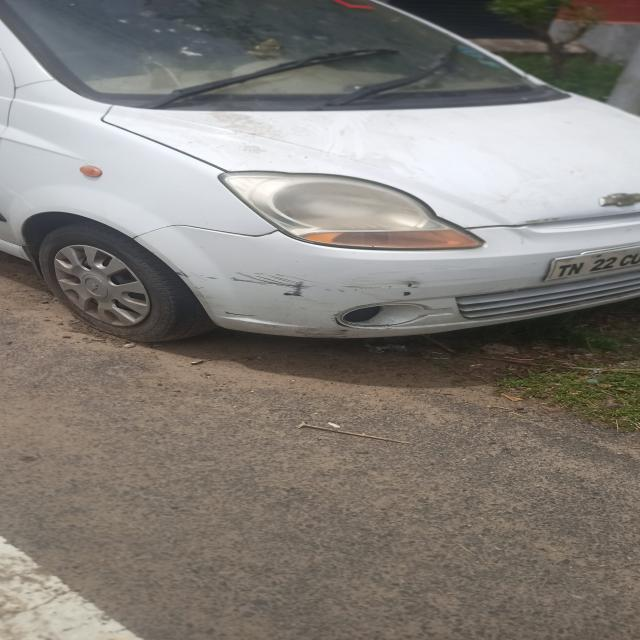scratch: (175, 268, 422, 298), (222, 304, 358, 338)
